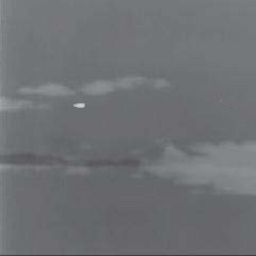Target: (71, 102, 86, 109)
